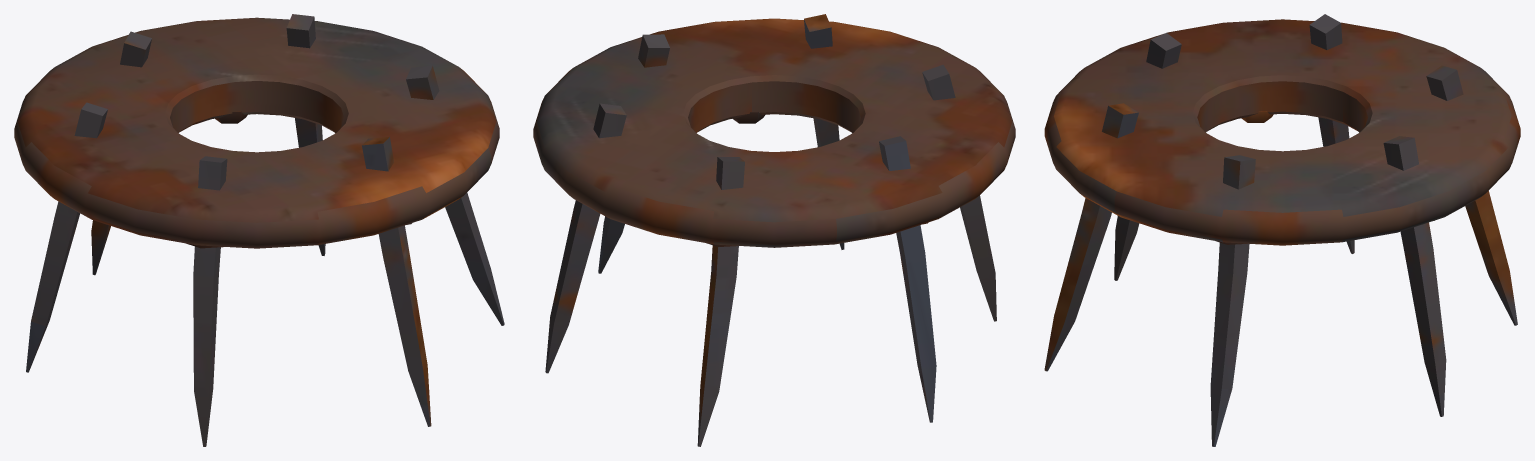
The model's file is Mod_Nails.glb.
3 views of the same model, side by side, from view 1: azimuth 30°, elevation 25°; view 2: azimuth 150°, elevation 25°; view 3: azimuth 270°, elevation 25° (orthographic). The views are drawn at different scales.
Parts seen in each view (by area): view 1: Mod_Nails; view 2: Mod_Nails; view 3: Mod_Nails.
Boxes of the visible parts, x1,y1,x2,y2 form: Mod_Nails: (14, 14, 504, 446); Mod_Nails: (533, 14, 1015, 446); Mod_Nails: (1044, 14, 1520, 446).
Bounding box in the file's own units: 0.1569 × 0.0936 × 0.1561.
3 materials, 3 textured.
